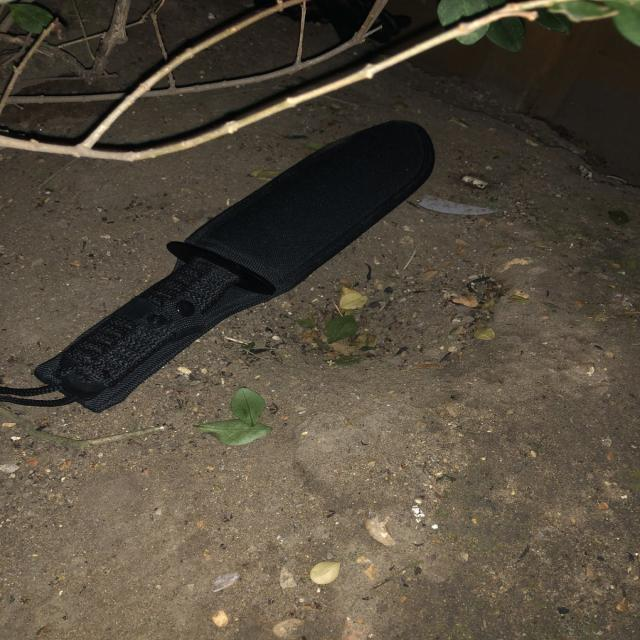Sharp-Object: (34, 120, 438, 416)
